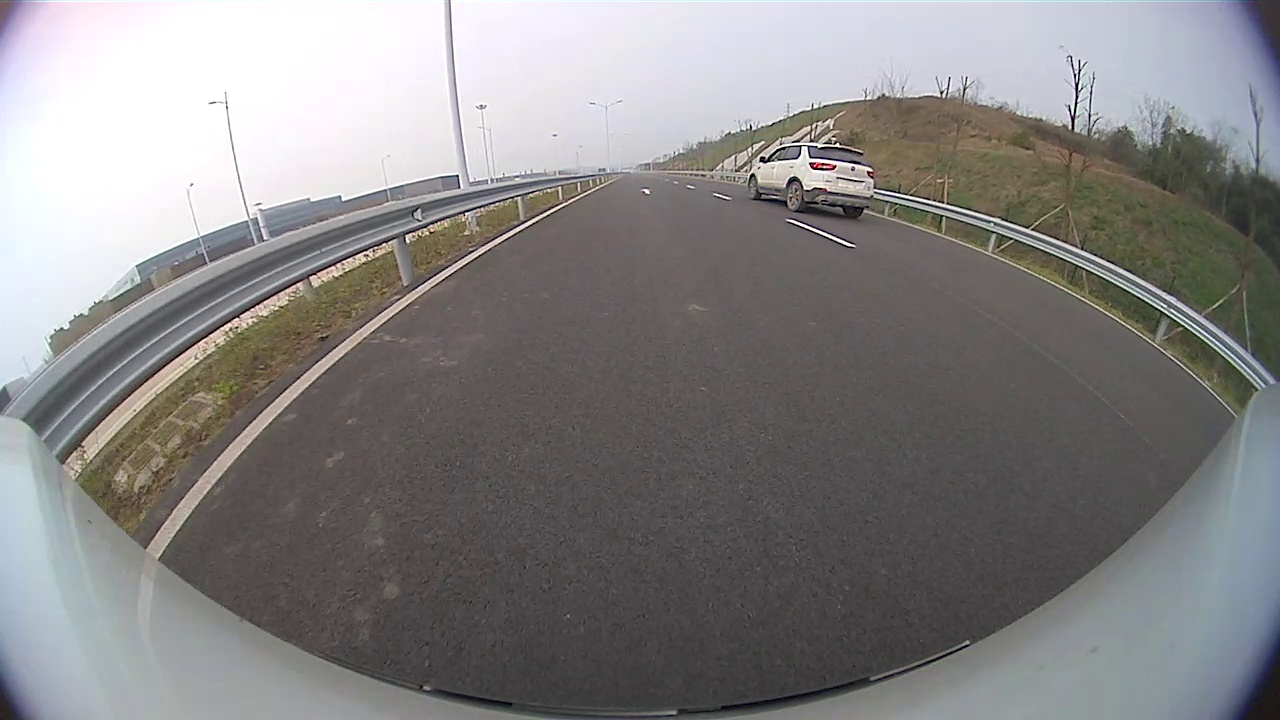car: (746, 142, 876, 219)
front: (745, 174, 761, 200)
rear: (783, 180, 807, 213)
